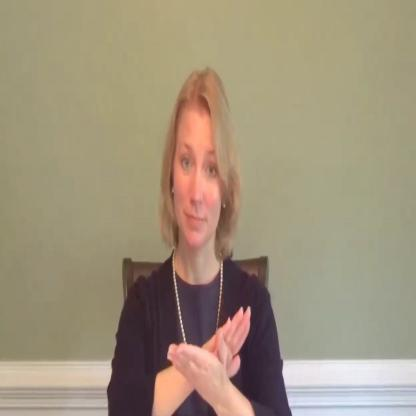NiceToMeetYou: (104, 66, 289, 416)
